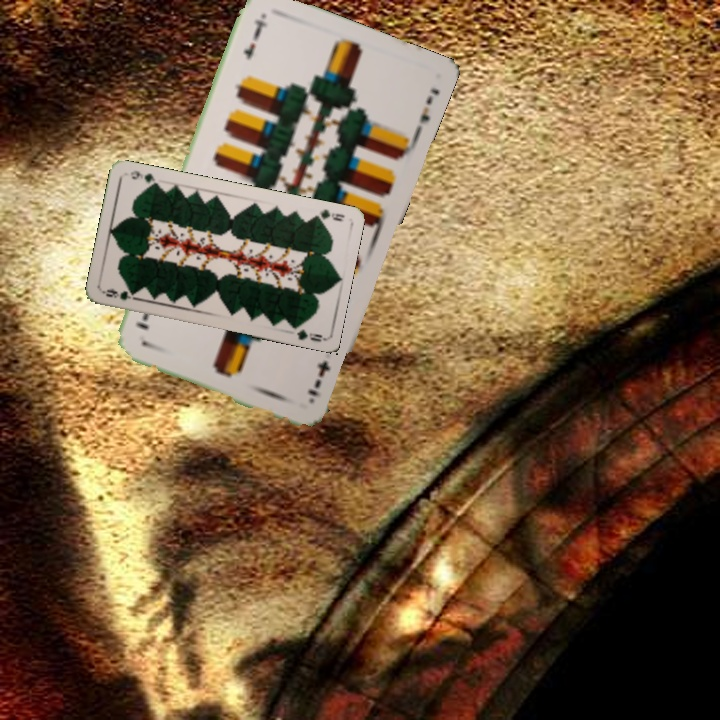E7: (239, 12, 270, 63), (303, 356, 333, 399)
G9: (307, 205, 347, 224), (100, 285, 140, 303)
